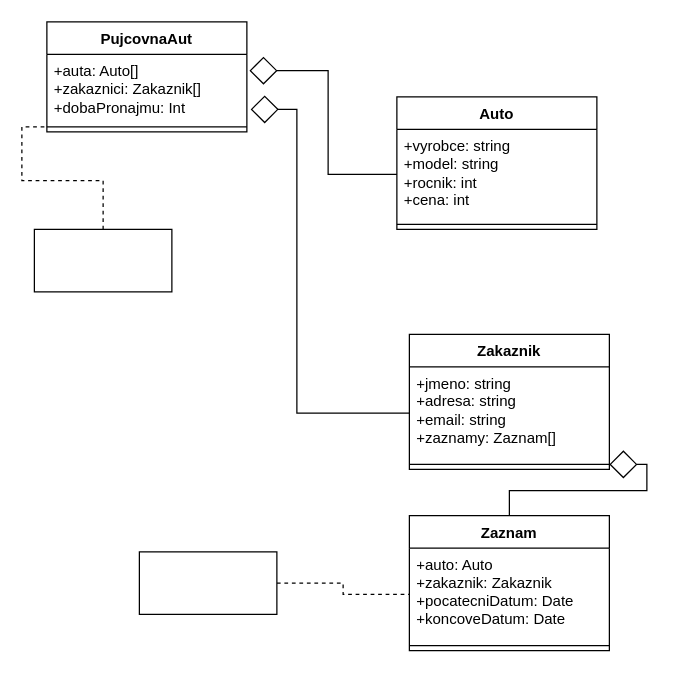
The diagram is 696 pixels wide and 673 high, and some of its shapes have lost their labels. The centre of each missing label's shape, as x and y in pixels:
"self.auta > 0" belongs at pixel 102 260.
"self.zakaznik >= 0" belongs at pixel 207 582.
